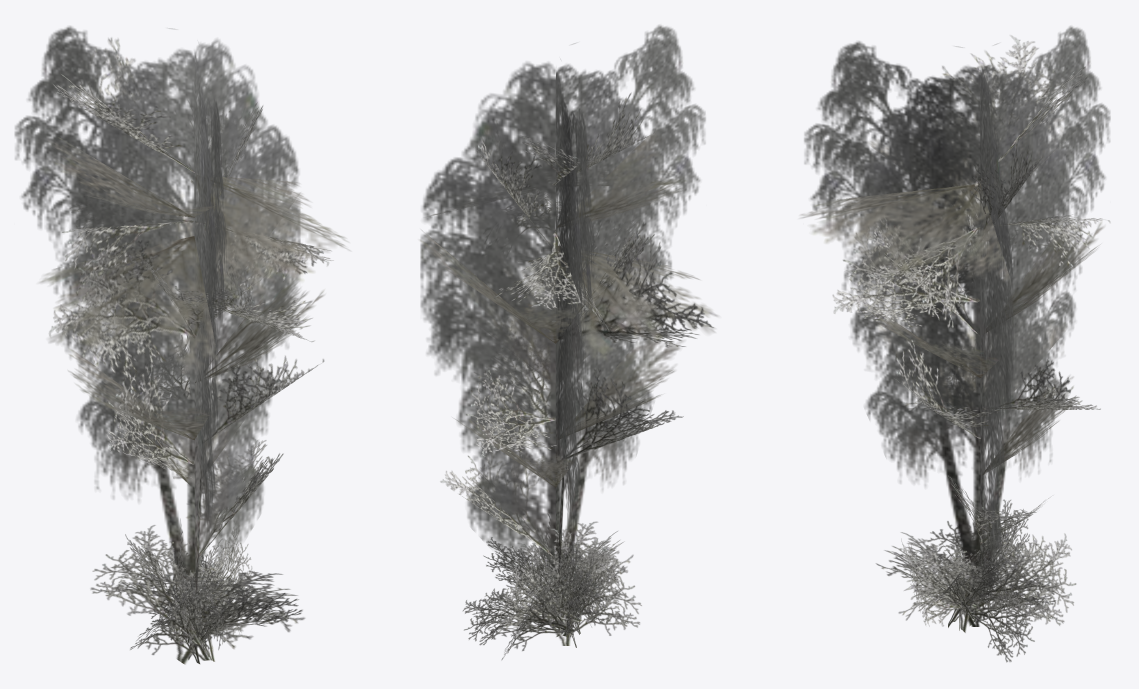
Rendered from wtree_a.glb.
3 renders of one model, left to right at view 1: azimuth 30°, elevation 25°; view 2: azimuth 150°, elevation 25°; view 3: azimuth 270°, elevation 25°, orthographic. The views are drawn at different scales.
Visible parts, largest first — view 1: Winter_Trees_Planes.005, Winter_Trees_Branches.016, Winter_Trees_Branches.005; view 2: Winter_Trees_Planes.005, Winter_Trees_Branches.016, Winter_Trees_Branches.005; view 3: Winter_Trees_Planes.005, Winter_Trees_Branches.016, Winter_Trees_Branches.005.
Boxes of the visible parts, <box> form: Winter_Trees_Planes.005: <box>14,26,300,592</box>; Winter_Trees_Branches.016: <box>39,37,349,557</box>; Winter_Trees_Branches.005: <box>90,519,304,664</box>; Winter_Trees_Planes.005: <box>420,25,705,585</box>; Winter_Trees_Branches.016: <box>420,93,718,557</box>; Winter_Trees_Branches.005: <box>463,514,641,659</box>; Winter_Trees_Planes.005: <box>804,26,1110,577</box>; Winter_Trees_Branches.016: <box>800,35,1110,544</box>; Winter_Trees_Branches.005: <box>876,499,1075,662</box>.
Bounding box in the file's own units: 8.57 × 17.56 × 9.12.
Materials: 2 (2 with a texture image).
